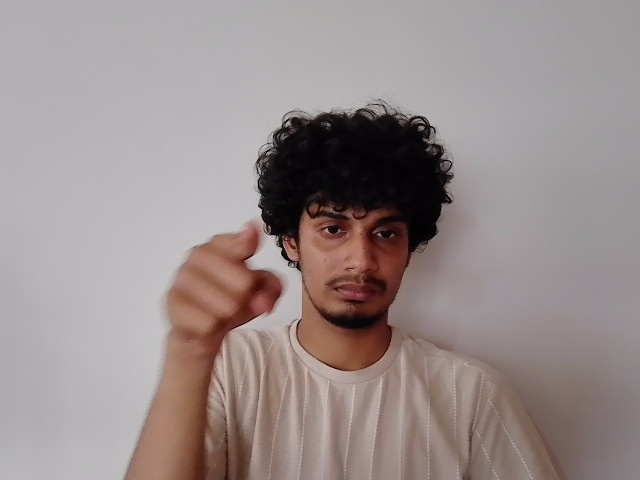you: (164, 221, 285, 345)
